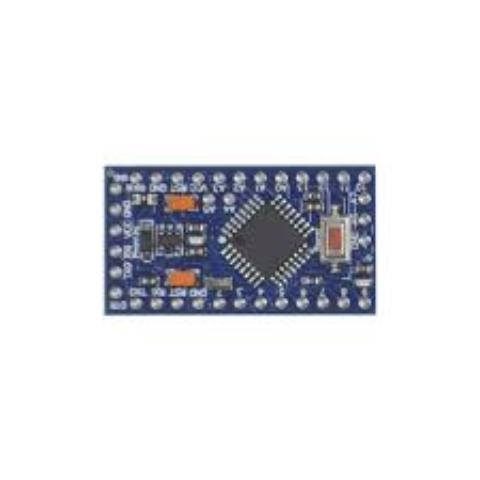Arduino-Pro-Mini: (90, 139, 392, 331)
